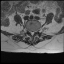CCS_normal: (31, 29, 33, 38)
LFS_normal: (34, 28, 36, 34)
LLS_normal: (33, 29, 34, 36)
RFS_normal: (27, 28, 29, 34)
RLS_normal: (29, 29, 31, 36)
